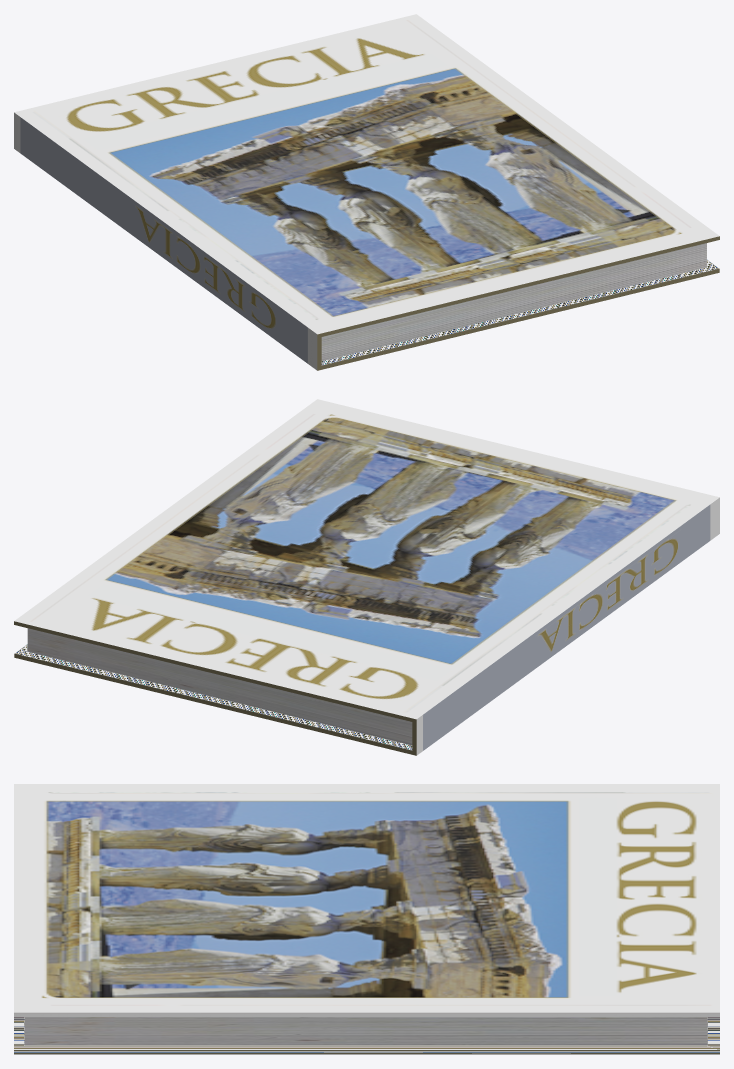
Rendered from Book 2.FBX.
3 views of the same model, one above another, from view 1: azimuth 30°, elevation 25°; view 2: azimuth 150°, elevation 25°; view 3: azimuth 270°, elevation 25° (orthographic). The views are drawn at different scales.
Parts seen in each view (by area): view 1: Book 2; view 2: Book 2; view 3: Book 2.
Part boxes in pixels (left/top/right/bottom): Book 2: left=14, top=14, right=719, bottom=370; Book 2: left=14, top=399, right=719, bottom=755; Book 2: left=14, top=784, right=719, bottom=1054.
Bounding box in the file's own units: 18.53 × 1.6 × 24.19.
1 material, 1 textured.
